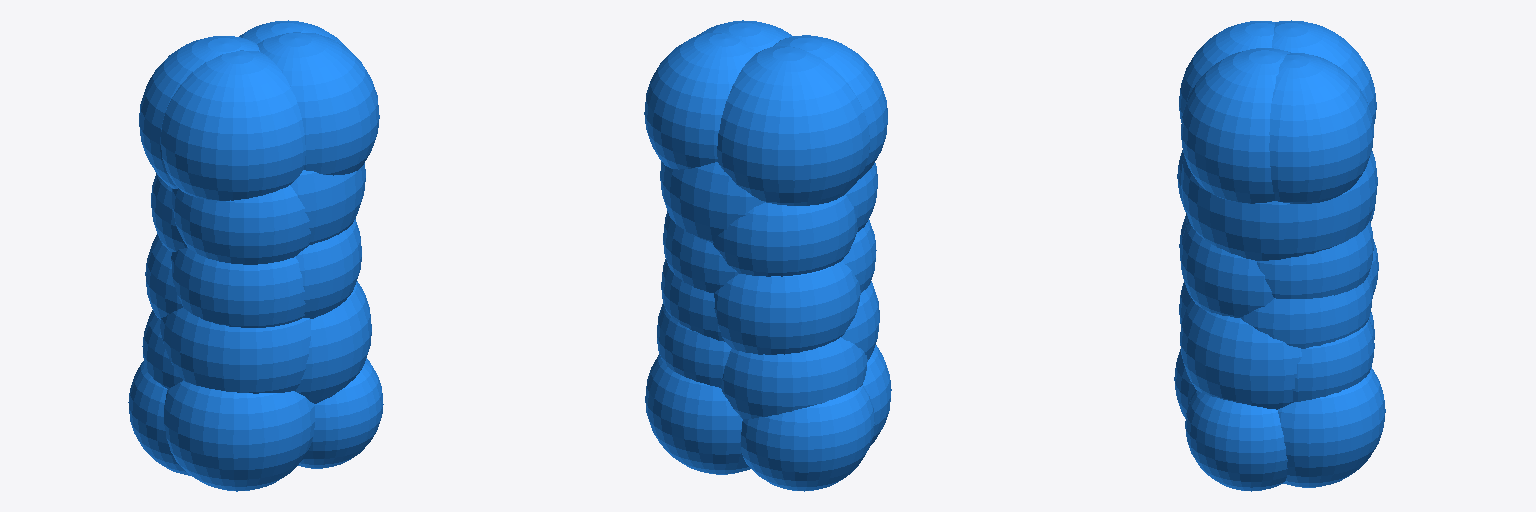
The robot description file, URDF, robot "coffee_jar":
<?xml version="1.0"?>
<robot name="coffee_jar">
  <!-- morphit:centroid 0.000040 0.000294 0.086581 -->
  <material name="default_color">
    <color rgba="0.200000 0.600000 1.000000 1.000000"/>
  </material>
  <link name="base">
    <inertial>
      <mass value="0.001000"/>
      <inertia ixx="0.000010" ixy="0.0" ixz="0.0" iyy="0.000010" iyz="0.0" izz="0.000010"/>
    </inertial>
  </link>
  <link name="sphere_0">
    <visual>
      <origin xyz="0 0 0" rpy="0 0 0"/>
      <geometry><sphere radius="0.033333"/></geometry>
      <material name="default_color"/>
    </visual>
    <collision>
      <origin xyz="0 0 0" rpy="0 0 0"/>
      <geometry><sphere radius="0.033333"/></geometry>
    </collision>
    <inertial>
      <mass value="0.047227"/>
      <inertia ixx="0.000021" ixy="0.0" ixz="0.0" iyy="0.000021" iyz="0.0" izz="0.000021"/>
    </inertial>
  </link>
  <joint name="sphere_0_fixed" type="fixed">
    <parent link="base"/>
    <child link="sphere_0"/>
    <origin xyz="-0.014653 -0.010074 -0.059711" rpy="0 0 0"/>
  </joint>
  <link name="sphere_1">
    <visual>
      <origin xyz="0 0 0" rpy="0 0 0"/>
      <geometry><sphere radius="0.031821"/></geometry>
      <material name="default_color"/>
    </visual>
    <collision>
      <origin xyz="0 0 0" rpy="0 0 0"/>
      <geometry><sphere radius="0.031821"/></geometry>
    </collision>
    <inertial>
      <mass value="0.041088"/>
      <inertia ixx="0.000017" ixy="0.0" ixz="0.0" iyy="0.000017" iyz="0.0" izz="0.000017"/>
    </inertial>
  </link>
  <joint name="sphere_1_fixed" type="fixed">
    <parent link="base"/>
    <child link="sphere_1"/>
    <origin xyz="0.015328 0.012239 -0.060434" rpy="0 0 0"/>
  </joint>
  <link name="sphere_2">
    <visual>
      <origin xyz="0 0 0" rpy="0 0 0"/>
      <geometry><sphere radius="0.034889"/></geometry>
      <material name="default_color"/>
    </visual>
    <collision>
      <origin xyz="0 0 0" rpy="0 0 0"/>
      <geometry><sphere radius="0.034889"/></geometry>
    </collision>
    <inertial>
      <mass value="0.054155"/>
      <inertia ixx="0.000026" ixy="0.0" ixz="0.0" iyy="0.000026" iyz="0.0" izz="0.000026"/>
    </inertial>
  </link>
  <joint name="sphere_2_fixed" type="fixed">
    <parent link="base"/>
    <child link="sphere_2"/>
    <origin xyz="0.014759 -0.005904 0.066592" rpy="0 0 0"/>
  </joint>
  <link name="sphere_3">
    <visual>
      <origin xyz="0 0 0" rpy="0 0 0"/>
      <geometry><sphere radius="0.035359"/></geometry>
      <material name="default_color"/>
    </visual>
    <collision>
      <origin xyz="0 0 0" rpy="0 0 0"/>
      <geometry><sphere radius="0.035359"/></geometry>
    </collision>
    <inertial>
      <mass value="0.056373"/>
      <inertia ixx="0.000028" ixy="0.0" ixz="0.0" iyy="0.000028" iyz="0.0" izz="0.000028"/>
    </inertial>
  </link>
  <joint name="sphere_3_fixed" type="fixed">
    <parent link="base"/>
    <child link="sphere_3"/>
    <origin xyz="-0.012804 0.005063 0.065750" rpy="0 0 0"/>
  </joint>
  <link name="sphere_4">
    <visual>
      <origin xyz="0 0 0" rpy="0 0 0"/>
      <geometry><sphere radius="0.029856"/></geometry>
      <material name="default_color"/>
    </visual>
    <collision>
      <origin xyz="0 0 0" rpy="0 0 0"/>
      <geometry><sphere radius="0.029856"/></geometry>
    </collision>
    <inertial>
      <mass value="0.033935"/>
      <inertia ixx="0.000012" ixy="0.0" ixz="0.0" iyy="0.000012" iyz="0.0" izz="0.000012"/>
    </inertial>
  </link>
  <joint name="sphere_4_fixed" type="fixed">
    <parent link="base"/>
    <child link="sphere_4"/>
    <origin xyz="-0.021804 0.009009 -0.062893" rpy="0 0 0"/>
  </joint>
  <link name="sphere_5">
    <visual>
      <origin xyz="0 0 0" rpy="0 0 0"/>
      <geometry><sphere radius="0.027469"/></geometry>
      <material name="default_color"/>
    </visual>
    <collision>
      <origin xyz="0 0 0" rpy="0 0 0"/>
      <geometry><sphere radius="0.027469"/></geometry>
    </collision>
    <inertial>
      <mass value="0.026430"/>
      <inertia ixx="0.000008" ixy="0.0" ixz="0.0" iyy="0.000008" iyz="0.0" izz="0.000008"/>
    </inertial>
  </link>
  <joint name="sphere_5_fixed" type="fixed">
    <parent link="base"/>
    <child link="sphere_5"/>
    <origin xyz="0.021947 -0.011466 -0.063790" rpy="0 0 0"/>
  </joint>
  <link name="sphere_6">
    <visual>
      <origin xyz="0 0 0" rpy="0 0 0"/>
      <geometry><sphere radius="0.034206"/></geometry>
      <material name="default_color"/>
    </visual>
    <collision>
      <origin xyz="0 0 0" rpy="0 0 0"/>
      <geometry><sphere radius="0.034206"/></geometry>
    </collision>
    <inertial>
      <mass value="0.051036"/>
      <inertia ixx="0.000024" ixy="0.0" ixz="0.0" iyy="0.000024" iyz="0.0" izz="0.000024"/>
    </inertial>
  </link>
  <joint name="sphere_6_fixed" type="fixed">
    <parent link="base"/>
    <child link="sphere_6"/>
    <origin xyz="-0.013651 -0.007372 0.066565" rpy="0 0 0"/>
  </joint>
  <link name="sphere_7">
    <visual>
      <origin xyz="0 0 0" rpy="0 0 0"/>
      <geometry><sphere radius="0.034479"/></geometry>
      <material name="default_color"/>
    </visual>
    <collision>
      <origin xyz="0 0 0" rpy="0 0 0"/>
      <geometry><sphere radius="0.034479"/></geometry>
    </collision>
    <inertial>
      <mass value="0.052266"/>
      <inertia ixx="0.000025" ixy="0.0" ixz="0.0" iyy="0.000025" iyz="0.0" izz="0.000025"/>
    </inertial>
  </link>
  <joint name="sphere_7_fixed" type="fixed">
    <parent link="base"/>
    <child link="sphere_7"/>
    <origin xyz="0.009189 0.004310 -0.010269" rpy="0 0 0"/>
  </joint>
  <link name="sphere_8">
    <visual>
      <origin xyz="0 0 0" rpy="0 0 0"/>
      <geometry><sphere radius="0.034373"/></geometry>
      <material name="default_color"/>
    </visual>
    <collision>
      <origin xyz="0 0 0" rpy="0 0 0"/>
      <geometry><sphere radius="0.034373"/></geometry>
    </collision>
    <inertial>
      <mass value="0.051787"/>
      <inertia ixx="0.000024" ixy="0.0" ixz="0.0" iyy="0.000024" iyz="0.0" izz="0.000024"/>
    </inertial>
  </link>
  <joint name="sphere_8_fixed" type="fixed">
    <parent link="base"/>
    <child link="sphere_8"/>
    <origin xyz="0.008122 0.004884 0.011620" rpy="0 0 0"/>
  </joint>
  <link name="sphere_9">
    <visual>
      <origin xyz="0 0 0" rpy="0 0 0"/>
      <geometry><sphere radius="0.036304"/></geometry>
      <material name="default_color"/>
    </visual>
    <collision>
      <origin xyz="0 0 0" rpy="0 0 0"/>
      <geometry><sphere radius="0.036304"/></geometry>
    </collision>
    <inertial>
      <mass value="0.061016"/>
      <inertia ixx="0.000032" ixy="0.0" ixz="0.0" iyy="0.000032" iyz="0.0" izz="0.000032"/>
    </inertial>
  </link>
  <joint name="sphere_9_fixed" type="fixed">
    <parent link="base"/>
    <child link="sphere_9"/>
    <origin xyz="0.010127 -0.004843 -0.030092" rpy="0 0 0"/>
  </joint>
  <link name="sphere_10">
    <visual>
      <origin xyz="0 0 0" rpy="0 0 0"/>
      <geometry><sphere radius="0.035875"/></geometry>
      <material name="default_color"/>
    </visual>
    <collision>
      <origin xyz="0 0 0" rpy="0 0 0"/>
      <geometry><sphere radius="0.035875"/></geometry>
    </collision>
    <inertial>
      <mass value="0.058878"/>
      <inertia ixx="0.000030" ixy="0.0" ixz="0.0" iyy="0.000030" iyz="0.0" izz="0.000030"/>
    </inertial>
  </link>
  <joint name="sphere_10_fixed" type="fixed">
    <parent link="base"/>
    <child link="sphere_10"/>
    <origin xyz="-0.008779 -0.005624 -0.025394" rpy="0 0 0"/>
  </joint>
  <link name="sphere_11">
    <visual>
      <origin xyz="0 0 0" rpy="0 0 0"/>
      <geometry><sphere radius="0.040818"/></geometry>
      <material name="default_color"/>
    </visual>
    <collision>
      <origin xyz="0 0 0" rpy="0 0 0"/>
      <geometry><sphere radius="0.040818"/></geometry>
    </collision>
    <inertial>
      <mass value="0.086720"/>
      <inertia ixx="0.000058" ixy="0.0" ixz="0.0" iyy="0.000058" iyz="0.0" izz="0.000058"/>
    </inertial>
  </link>
  <joint name="sphere_11_fixed" type="fixed">
    <parent link="base"/>
    <child link="sphere_11"/>
    <origin xyz="0.004884 0.000033 0.039539" rpy="0 0 0"/>
  </joint>
  <link name="sphere_12">
    <visual>
      <origin xyz="0 0 0" rpy="0 0 0"/>
      <geometry><sphere radius="0.032652"/></geometry>
      <material name="default_color"/>
    </visual>
    <collision>
      <origin xyz="0 0 0" rpy="0 0 0"/>
      <geometry><sphere radius="0.032652"/></geometry>
    </collision>
    <inertial>
      <mass value="0.044390"/>
      <inertia ixx="0.000019" ixy="0.0" ixz="0.0" iyy="0.000019" iyz="0.0" izz="0.000019"/>
    </inertial>
  </link>
  <joint name="sphere_12_fixed" type="fixed">
    <parent link="base"/>
    <child link="sphere_12"/>
    <origin xyz="-0.009337 -0.009533 0.035033" rpy="0 0 0"/>
  </joint>
  <link name="sphere_13">
    <visual>
      <origin xyz="0 0 0" rpy="0 0 0"/>
      <geometry><sphere radius="0.033423"/></geometry>
      <material name="default_color"/>
    </visual>
    <collision>
      <origin xyz="0 0 0" rpy="0 0 0"/>
      <geometry><sphere radius="0.033423"/></geometry>
    </collision>
    <inertial>
      <mass value="0.047612"/>
      <inertia ixx="0.000021" ixy="0.0" ixz="0.0" iyy="0.000021" iyz="0.0" izz="0.000021"/>
    </inertial>
  </link>
  <joint name="sphere_13_fixed" type="fixed">
    <parent link="base"/>
    <child link="sphere_13"/>
    <origin xyz="0.017555 0.005815 0.067420" rpy="0 0 0"/>
  </joint>
  <link name="sphere_14">
    <visual>
      <origin xyz="0 0 0" rpy="0 0 0"/>
      <geometry><sphere radius="0.033430"/></geometry>
      <material name="default_color"/>
    </visual>
    <collision>
      <origin xyz="0 0 0" rpy="0 0 0"/>
      <geometry><sphere radius="0.033430"/></geometry>
    </collision>
    <inertial>
      <mass value="0.047642"/>
      <inertia ixx="0.000021" ixy="0.0" ixz="0.0" iyy="0.000021" iyz="0.0" izz="0.000021"/>
    </inertial>
  </link>
  <joint name="sphere_14_fixed" type="fixed">
    <parent link="base"/>
    <child link="sphere_14"/>
    <origin xyz="-0.012611 0.006252 -0.038463" rpy="0 0 0"/>
  </joint>
  <link name="sphere_15">
    <visual>
      <origin xyz="0 0 0" rpy="0 0 0"/>
      <geometry><sphere radius="0.034822"/></geometry>
      <material name="default_color"/>
    </visual>
    <collision>
      <origin xyz="0 0 0" rpy="0 0 0"/>
      <geometry><sphere radius="0.034822"/></geometry>
    </collision>
    <inertial>
      <mass value="0.053842"/>
      <inertia ixx="0.000026" ixy="0.0" ixz="0.0" iyy="0.000026" iyz="0.0" izz="0.000026"/>
    </inertial>
  </link>
  <joint name="sphere_15_fixed" type="fixed">
    <parent link="base"/>
    <child link="sphere_15"/>
    <origin xyz="0.006369 -0.006210 0.006017" rpy="0 0 0"/>
  </joint>
  <link name="sphere_16">
    <visual>
      <origin xyz="0 0 0" rpy="0 0 0"/>
      <geometry><sphere radius="0.034057"/></geometry>
      <material name="default_color"/>
    </visual>
    <collision>
      <origin xyz="0 0 0" rpy="0 0 0"/>
      <geometry><sphere radius="0.034057"/></geometry>
    </collision>
    <inertial>
      <mass value="0.050370"/>
      <inertia ixx="0.000023" ixy="0.0" ixz="0.0" iyy="0.000023" iyz="0.0" izz="0.000023"/>
    </inertial>
  </link>
  <joint name="sphere_16_fixed" type="fixed">
    <parent link="base"/>
    <child link="sphere_16"/>
    <origin xyz="-0.007921 0.006202 0.027500" rpy="0 0 0"/>
  </joint>
  <link name="sphere_17">
    <visual>
      <origin xyz="0 0 0" rpy="0 0 0"/>
      <geometry><sphere radius="0.031928"/></geometry>
      <material name="default_color"/>
    </visual>
    <collision>
      <origin xyz="0 0 0" rpy="0 0 0"/>
      <geometry><sphere radius="0.031928"/></geometry>
    </collision>
    <inertial>
      <mass value="0.041503"/>
      <inertia ixx="0.000017" ixy="0.0" ixz="0.0" iyy="0.000017" iyz="0.0" izz="0.000017"/>
    </inertial>
  </link>
  <joint name="sphere_17_fixed" type="fixed">
    <parent link="base"/>
    <child link="sphere_17"/>
    <origin xyz="0.012405 0.007623 -0.032063" rpy="0 0 0"/>
  </joint>
  <link name="sphere_18">
    <visual>
      <origin xyz="0 0 0" rpy="0 0 0"/>
      <geometry><sphere radius="0.033080"/></geometry>
      <material name="default_color"/>
    </visual>
    <collision>
      <origin xyz="0 0 0" rpy="0 0 0"/>
      <geometry><sphere radius="0.033080"/></geometry>
    </collision>
    <inertial>
      <mass value="0.046158"/>
      <inertia ixx="0.000020" ixy="0.0" ixz="0.0" iyy="0.000020" iyz="0.0" izz="0.000020"/>
    </inertial>
  </link>
  <joint name="sphere_18_fixed" type="fixed">
    <parent link="base"/>
    <child link="sphere_18"/>
    <origin xyz="-0.008782 -0.008269 0.003572" rpy="0 0 0"/>
  </joint>
  <link name="sphere_19">
    <visual>
      <origin xyz="0 0 0" rpy="0 0 0"/>
      <geometry><sphere radius="0.033414"/></geometry>
      <material name="default_color"/>
    </visual>
    <collision>
      <origin xyz="0 0 0" rpy="0 0 0"/>
      <geometry><sphere radius="0.033414"/></geometry>
    </collision>
    <inertial>
      <mass value="0.047573"/>
      <inertia ixx="0.000021" ixy="0.0" ixz="0.0" iyy="0.000021" iyz="0.0" izz="0.000021"/>
    </inertial>
  </link>
  <joint name="sphere_19_fixed" type="fixed">
    <parent link="base"/>
    <child link="sphere_19"/>
    <origin xyz="-0.010342 0.007863 -0.006500" rpy="0 0 0"/>
  </joint>
</robot>

--- What the picture shows (computed from the rendered views, not written in the file) ---
3 views of the same robot in one strip: view 1: azimuth 30°, elevation 25°; view 2: azimuth 150°, elevation 25°; view 3: azimuth 270°, elevation 25° (orthographic).
Model coffee_jar with 21 links and 20 joints (20 fixed), rooted at base, posed all joints at 0.
Visible links, largest first — view 1: sphere_6, sphere_0, sphere_2, sphere_10, sphere_12, sphere_18, sphere_9, sphere_5, sphere_3, sphere_15, sphere_11, sphere_4 (+4 smaller); view 2: sphere_3, sphere_19, sphere_13, sphere_4, sphere_16, sphere_14, sphere_1, sphere_11, sphere_6, sphere_17, sphere_8, sphere_7 (+5 smaller); view 3: sphere_13, sphere_2, sphere_11, sphere_9, sphere_1, sphere_5, sphere_15, sphere_7, sphere_8, sphere_17, sphere_3, sphere_6 (+1 smaller).
Boxes of the visible links, left/top/right/bottom form: sphere_6: left=161, top=50, right=305, bottom=200; sphere_0: left=164, top=381, right=315, bottom=491; sphere_2: left=257, top=32, right=379, bottom=175; sphere_10: left=160, top=308, right=311, bottom=393; sphere_12: left=172, top=185, right=310, bottom=264; sphere_18: left=171, top=247, right=305, bottom=327; sphere_9: left=295, top=281, right=371, bottom=403; sphere_5: left=298, top=358, right=383, bottom=468; sphere_3: left=139, top=36, right=259, bottom=188; sphere_15: left=295, top=219, right=361, bottom=318; sphere_11: left=290, top=163, right=365, bottom=244; sphere_4: left=128, top=361, right=190, bottom=475; sphere_3: left=717, top=46, right=869, bottom=205; sphere_19: left=714, top=261, right=860, bottom=354; sphere_13: left=644, top=33, right=755, bottom=169; sphere_4: left=741, top=385, right=874, bottom=491; sphere_16: left=713, top=195, right=857, bottom=276; sphere_14: left=721, top=337, right=867, bottom=418; sphere_1: left=645, top=354, right=750, bottom=474; sphere_11: left=660, top=161, right=764, bottom=242; sphere_6: left=773, top=35, right=887, bottom=179; sphere_17: left=657, top=304, right=731, bottom=387; sphere_8: left=663, top=211, right=738, bottom=292; sphere_7: left=661, top=259, right=724, bottom=341; sphere_13: left=1269, top=53, right=1373, bottom=203; sphere_2: left=1181, top=48, right=1290, bottom=203; sphere_11: left=1181, top=151, right=1377, bottom=260; sphere_9: left=1180, top=298, right=1301, bottom=409; sphere_1: left=1278, top=367, right=1385, bottom=487; sphere_5: left=1185, top=390, right=1287, bottom=491; sphere_15: left=1180, top=220, right=1273, bottom=317; sphere_7: left=1240, top=273, right=1372, bottom=348; sphere_8: left=1257, top=221, right=1373, bottom=298; sphere_17: left=1293, top=319, right=1374, bottom=402; sphere_3: left=1272, top=20, right=1376, bottom=127; sphere_6: left=1179, top=21, right=1274, bottom=122.
Size in the robot's own frame: 0.1026 by 0.0875 by 0.1945 metres.
Geometry: primitives only (box / cylinder / sphere), no mesh files.
